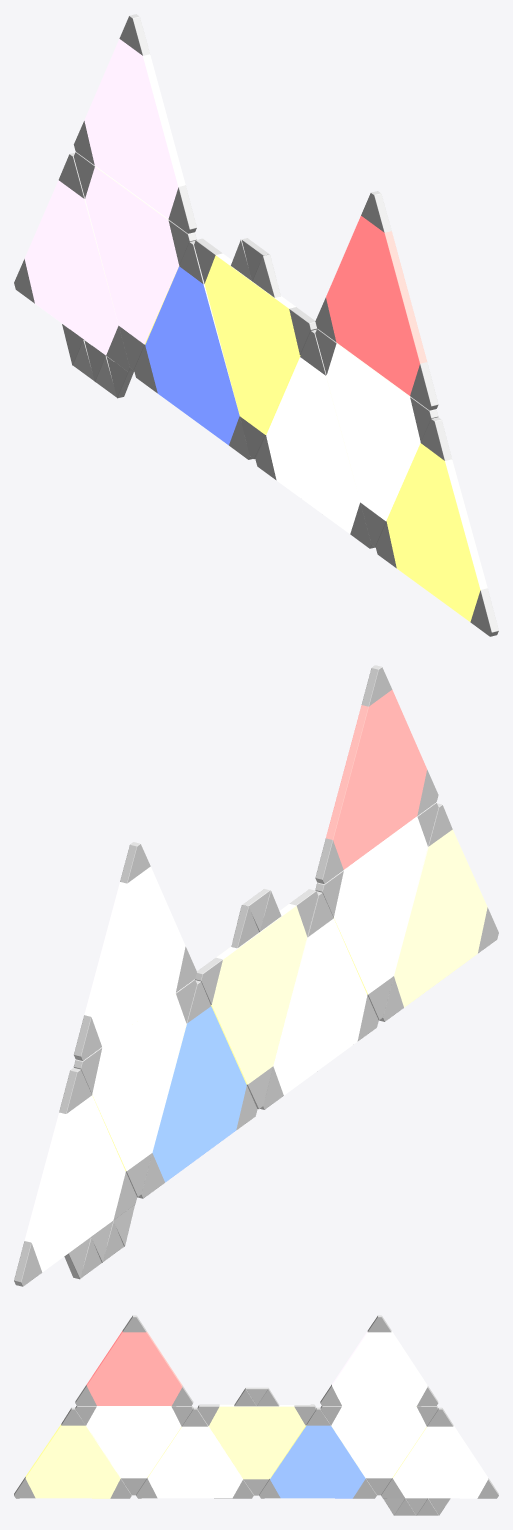
File: nano_leaf.glb
3 views of the same model, one above another, from view 1: azimuth 30°, elevation 25°; view 2: azimuth 150°, elevation 25°; view 3: azimuth 270°, elevation 25° (orthographic). The views are drawn at different scales.
Parts seen in each view (by area): view 1: Nano leaf light; view 2: Nano leaf light; view 3: Nano leaf light.
Part boxes in pixels (x1,y1,x2,y2): Nano leaf light: (14,14,498,636); Nano leaf light: (14,665,498,1286); Nano leaf light: (14,1315,498,1515).
Bounding box in the file's own units: 0.054 × 2.33 × 5.14.
